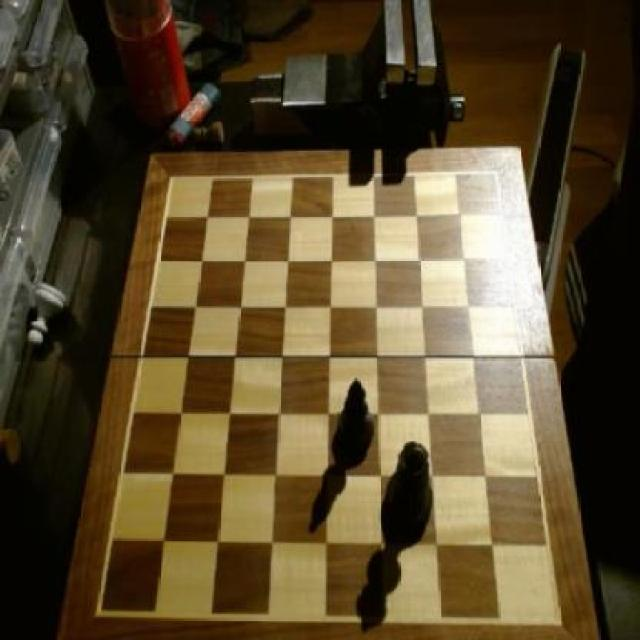bishop: (337, 378, 377, 454)
black-pawn: (386, 442, 436, 542)
